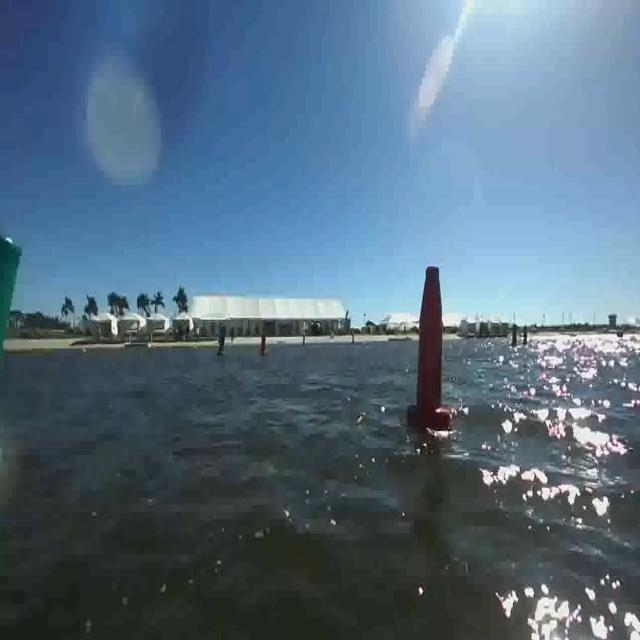green-column-buoy: (216, 326, 229, 358)
red-column-buoy: (410, 261, 450, 433), (260, 330, 270, 358)
